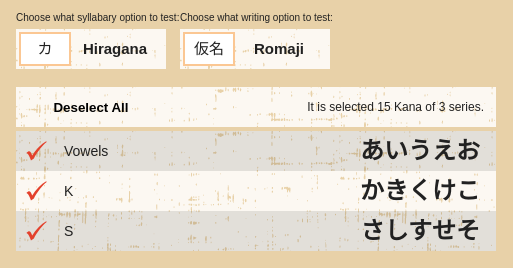
Test case: Setup page › switches the writing test to kana
Check: the text with class "selection-hint" reads "It is selected 15 Kana of 3 series.", box [307,100,484,114]
Click the checkbox labelled "仮名 Ro": (255, 49) [180,29,330,69]
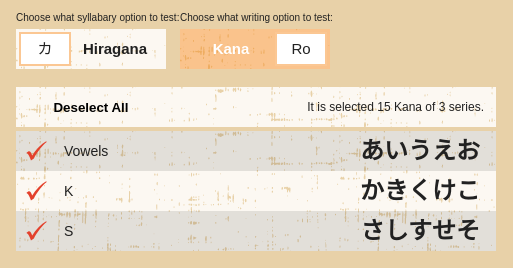
Check: the checkbox labelled "仮名 Ro" is checked, box [180,29,330,69]
Check: the text with class "before" reads "Kana", box [213,40,249,57]
